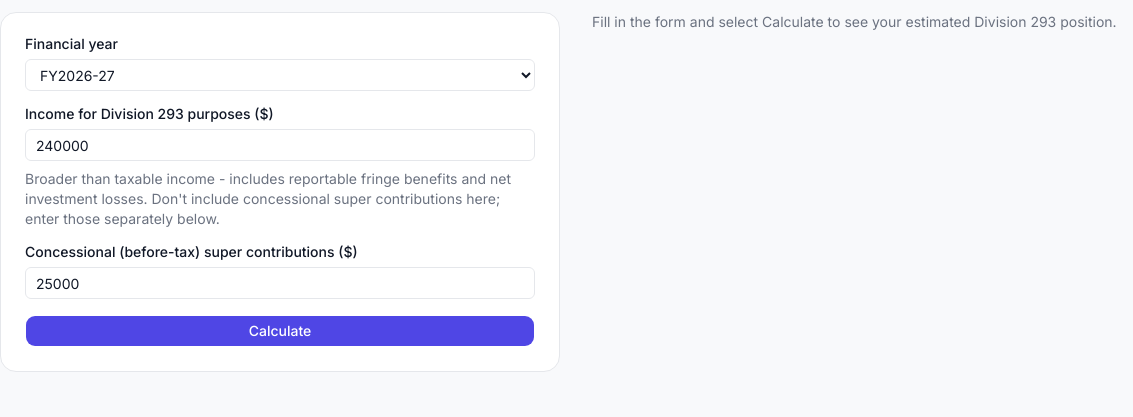
Test: Div293Calculator › rejects a negative Division 293 income
Replace the text in the number field labelled "Income for Division 293 purposes ($)" with "-1" at (280, 145), box [25,129,535,161]
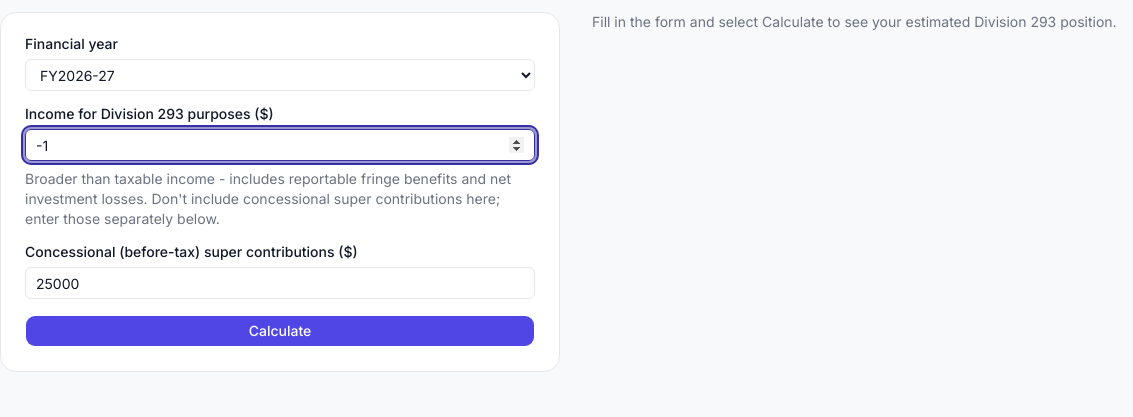
Click the button "Calculate" at (280, 331), box [25,315,535,347]
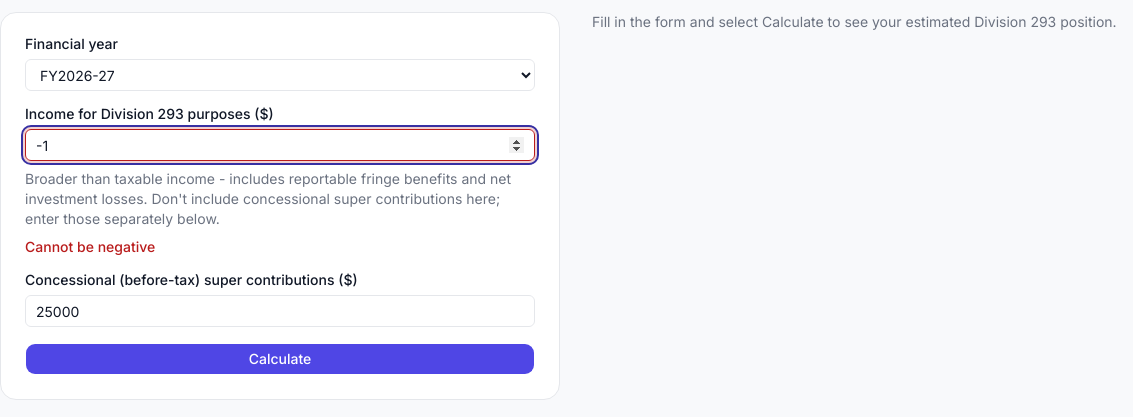
Check: the message reads "Cannot be negative", box [25,238,155,255]
